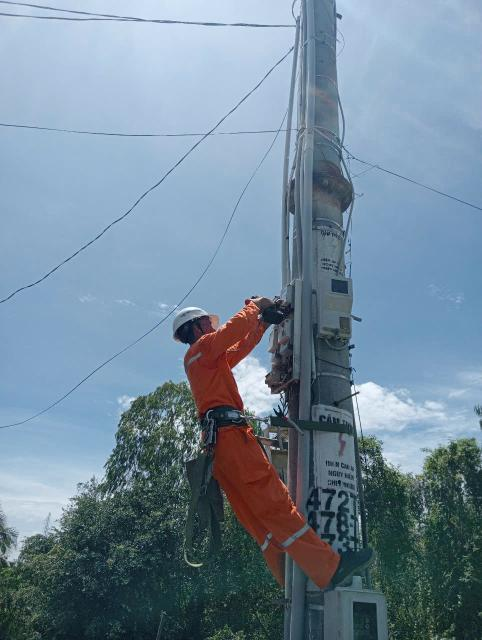gloves: (251, 290, 294, 328)
harness: (185, 396, 270, 447)
helmet: (154, 296, 221, 342)
shoes: (310, 538, 392, 591)
